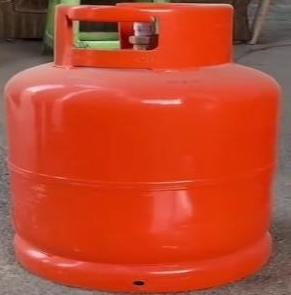cylinder: (1, 0, 291, 295)
